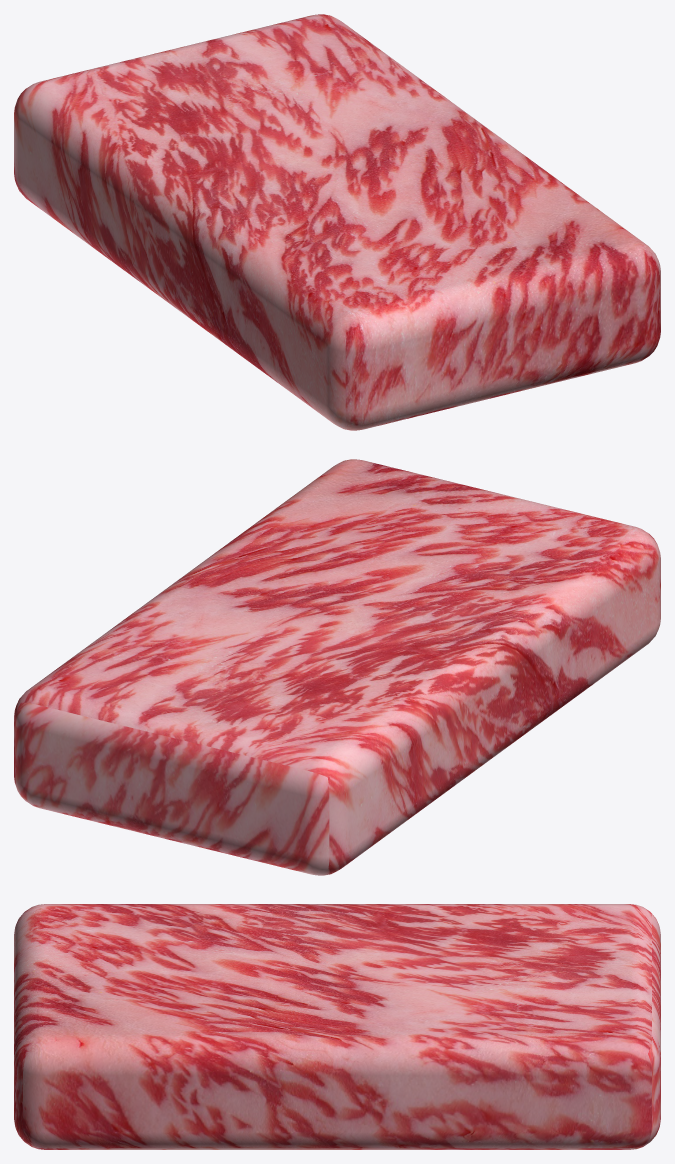
File: Meat.fbx
3 views of the same model, one above another, from view 1: azimuth 30°, elevation 25°; view 2: azimuth 150°, elevation 25°; view 3: azimuth 270°, elevation 25° (orthographic). The views are drawn at different scales.
Parts seen in each view (by area): view 1: pCube5; view 2: pCube5; view 3: pCube5.
Boxes of the visible parts, left/top/right/bottom form: pCube5: left=14, top=14, right=660, bottom=430; pCube5: left=14, top=459, right=660, bottom=875; pCube5: left=14, top=904, right=660, bottom=1149.
Bounding box in the file's own units: 3.54 × 1.21 × 6.3.
